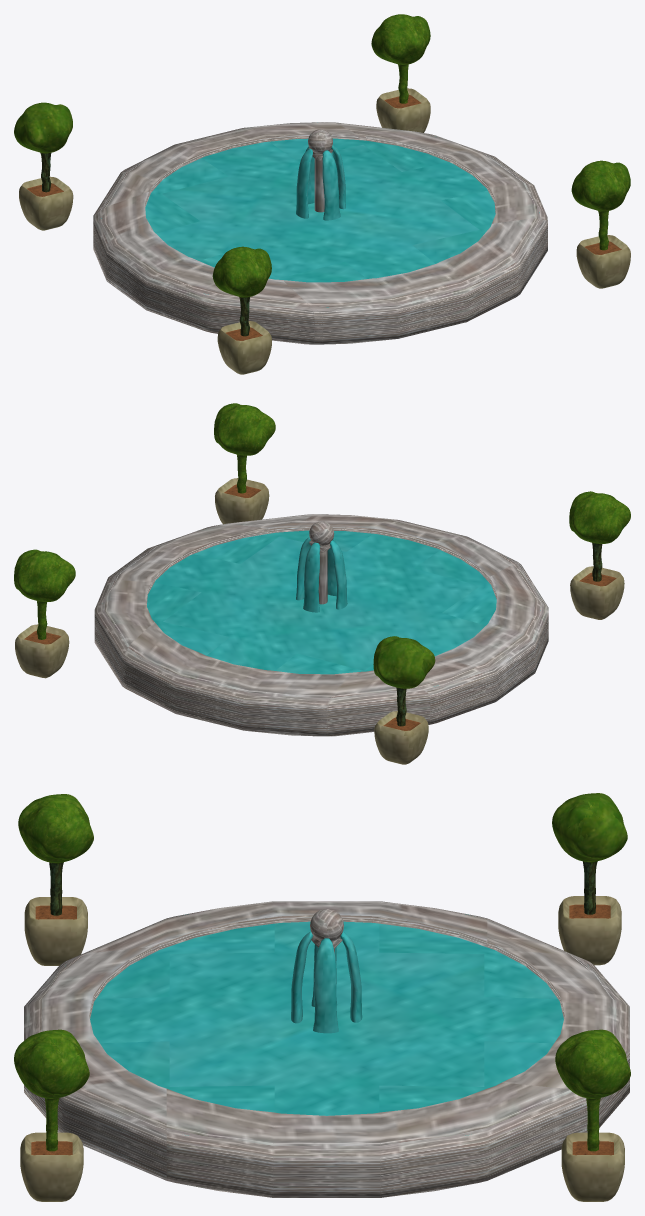
3 views of the same model, one above another, from view 1: azimuth 30°, elevation 25°; view 2: azimuth 150°, elevation 25°; view 3: azimuth 270°, elevation 25° (orthographic). The views are drawn at different scales.
Visible parts, largest first — view 1: Mball.003, water, Mball.030, Mball.031, Mball.034, Mball.021, Mball.022, Mball.029, Mball.033, Mball.032, Mball.011, Mball.009 (+1 smaller); view 2: Mball.003, water, Mball.034, Mball.021, Mball.031, Mball.030, Mball.022, Mball.033, Mball.032, Mball.029, Mball.005, Mball.009 (+1 smaller); view 3: Mball.003, water, Mball.021, Mball.031, Mball.030, Mball.034, Mball.029, Mball.032, Mball.022, Mball.033, Mball.010, Mball.011 (+2 smaller).
Boxes of the visible parts, left/top/right/bottom form: Mball.003: left=93, top=122, right=547, bottom=344; water: left=101, top=122, right=539, bottom=307; Mball.030: left=571, top=160, right=630, bottom=250; Mball.031: left=371, top=14, right=430, bottom=103; Mball.034: left=14, top=102, right=72, bottom=192; Mball.021: left=212, top=246, right=271, bottom=336; Mball.022: left=217, top=321, right=271, bottom=374; Mball.029: left=576, top=235, right=630, bottom=288; Mball.033: left=19, top=176, right=73, bottom=230; Mball.032: left=376, top=88, right=430, bottom=132; Mball.011: left=322, top=150, right=340, bottom=220; Mball.009: left=296, top=148, right=312, bottom=218; Mball.003: left=94, top=514, right=548, bottom=736; water: left=147, top=530, right=540, bottom=686; Mball.034: left=373, top=636, right=435, bottom=726; Mball.021: left=569, top=491, right=630, bottom=581; Mball.031: left=14, top=549, right=75, bottom=639; Mball.030: left=214, top=403, right=275, bottom=493; Mball.022: left=570, top=566, right=624, bottom=619; Mball.033: left=374, top=711, right=428, bottom=764; Mball.032: left=15, top=624, right=69, bottom=678; Mball.029: left=215, top=478, right=269, bottom=524; Mball.005: left=303, top=542, right=320, bottom=612; Mball.009: left=330, top=540, right=347, bottom=609; Mball.003: left=24, top=901, right=629, bottom=1197; water: left=90, top=914, right=563, bottom=1135; Mball.021: left=18, top=794, right=93, bottom=915; Mball.031: left=555, top=1029, right=630, bottom=1151; Mball.030: left=14, top=1029, right=89, bottom=1151; Mball.034: left=552, top=793, right=627, bottom=914; Mball.029: left=20, top=1132, right=83, bottom=1201; Mball.032: left=561, top=1132, right=624, bottom=1201; Mball.022: left=24, top=897, right=87, bottom=965; Mball.033: left=558, top=896, right=621, bottom=965; Mball.010: left=313, top=938, right=338, bottom=1033; Mball.011: left=291, top=931, right=312, bottom=1023.
Size of the model in its own units: 11.24 by 3.55 by 10.88.
6 materials, 6 textured.
